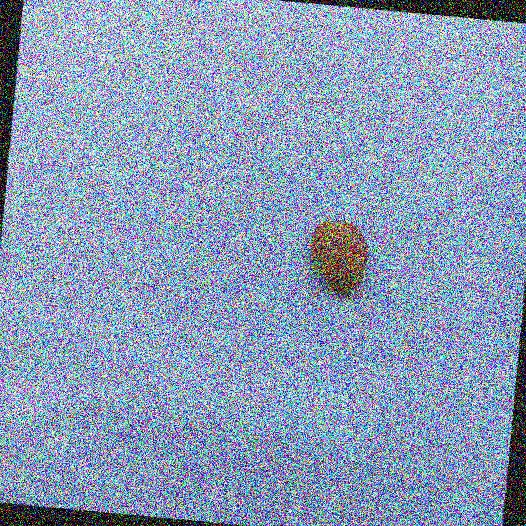grade2: (301, 215, 374, 300)
